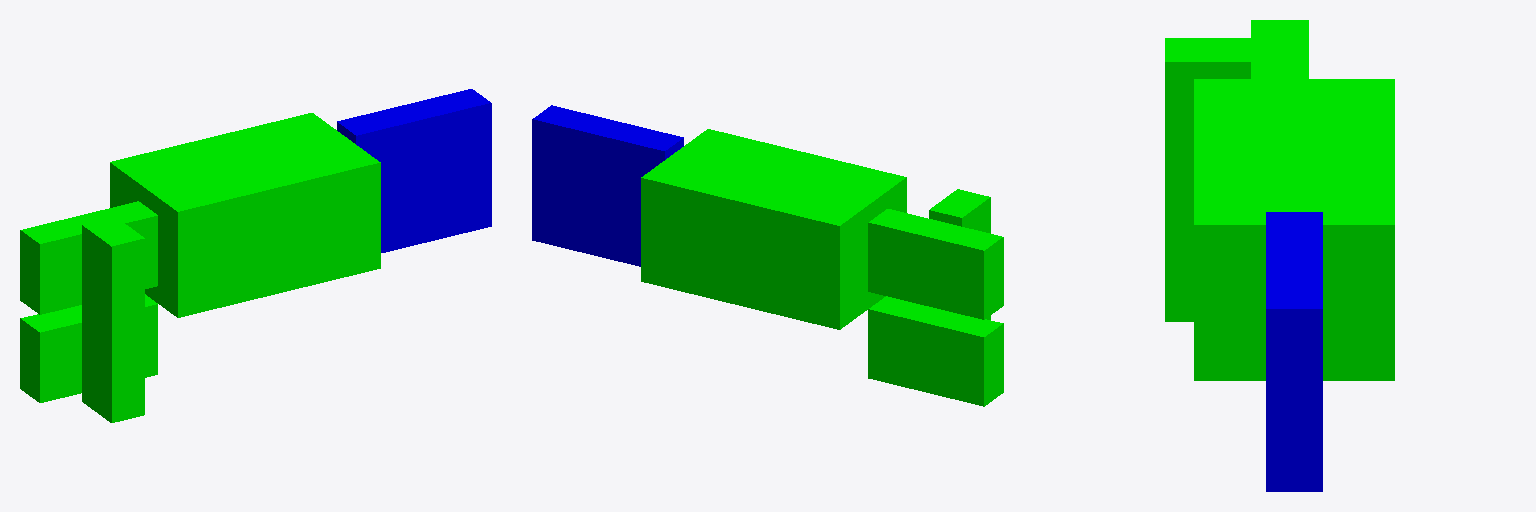
robot.urdf — robot:
<robot name = "robot">
    <link name="root">
        <inertial>
            <origin xyz="0.0 0.0 1.5" rpy="0 0 0"/>
            <mass value="1" />
            <inertia ixx="100" ixy="0" ixz="0" iyy="100" iyz="0" izz="100" />
        </inertial>
        <visual>
            <origin xyz="0.0 0.0 1.5" rpy="0 0 0"/>
            <geometry>
                <box size="0 0 0.0001" />
            </geometry>
            <material name="Green">
                <color rgba="0 1.0 0.0 1.0"/>
            </material>
        </visual>
        <collision>
            <origin xyz="0.0 0.0 1.5" rpy="0 0 0"/>
            <geometry>
                <box size="0 0 0.0001" />
            </geometry>
        </collision>
    </link>
    <joint name="root_000" type="revolute">
       <parent link="root"/>
       <child  link="000"/>
       <origin rpy="0 0 0" xyz="0.0 0.0 1.5" />
     <axis xyz="1 0 0"/>
       <limit effort="0.0" lower="-3.14159" upper="3.14159" velocity="0.0"/>
    </joint>
    <link name="000">
        <inertial>
            <origin xyz="0.0 0.0 -0.25" rpy="0 0 0"/>
            <mass value="1" />
            <inertia ixx="100" ixy="0" ixz="0" iyy="100" iyz="0" izz="100" />
        </inertial>
        <visual>
            <origin xyz="0.0 0.0 -0.25" rpy="0 0 0"/>
            <geometry>
                <box size="0.2 0.3 0.5" />
            </geometry>
            <material name="Green">
                <color rgba="0 1.0 0.0 1.0"/>
            </material>
        </visual>
        <collision>
            <origin xyz="0.0 0.0 -0.25" rpy="0 0 0"/>
            <geometry>
                <box size="0.2 0.3 0.5" />
            </geometry>
        </collision>
    </link>
    <joint name="000_010" type="revolute">
       <parent link="000"/>
       <child  link="010"/>
       <origin rpy="0 0 0" xyz="0.0 0.0 -0.5" />
     <axis xyz="0 0 1"/>
       <limit effort="0.0" lower="-3.14159" upper="3.14159" velocity="0.0"/>
    </joint>
    <link name="010">
        <inertial>
            <origin xyz="0.0 0.0 -0.25" rpy="0 0 0"/>
            <mass value="1" />
            <inertia ixx="100" ixy="0" ixz="0" iyy="100" iyz="0" izz="100" />
        </inertial>
        <visual>
            <origin xyz="0.0 0.0 -0.25" rpy="0 0 0"/>
            <geometry>
                <box size="0.2 0.3 0.5" />
            </geometry>
            <material name="Green">
                <color rgba="0 1.0 0.0 1.0"/>
            </material>
        </visual>
        <collision>
            <origin xyz="0.0 0.0 -0.25" rpy="0 0 0"/>
            <geometry>
                <box size="0.2 0.3 0.5" />
            </geometry>
        </collision>
    </link>
    <joint name="010_010-100" type="revolute">
       <parent link="010"/>
       <child  link="010-100"/>
       <origin rpy="0 0 0" xyz="0.0 0.15 -0.25" />
     <axis xyz="0 1 0"/>
       <limit effort="0.0" lower="-3.14159" upper="3.14159" velocity="0.0"/>
    </joint>
    <link name="010-100">
        <inertial>
            <origin xyz="0.0 0.05 -0.0" rpy="0 0 0"/>
            <mass value="1" />
            <inertia ixx="100" ixy="0" ixz="0" iyy="100" iyz="0" izz="100" />
        </inertial>
        <visual>
            <origin xyz="0.0 0.05 -0.0" rpy="0 0 0"/>
            <geometry>
                <box size="0.7 0.1 0.4" />
            </geometry>
            <material name="Green">
                <color rgba="0 1.0 0.0 1.0"/>
            </material>
        </visual>
        <collision>
            <origin xyz="0.0 0.05 -0.0" rpy="0 0 0"/>
            <geometry>
                <box size="0.7 0.1 0.4" />
            </geometry>
        </collision>
    </link>
    <joint name="010-100_010-110" type="revolute">
       <parent link="010-100"/>
       <child  link="010-110"/>
       <origin rpy="0 0 0" xyz="0.0 0.1 -0.0" />
     <axis xyz="0 1 0"/>
       <limit effort="0.0" lower="-3.14159" upper="3.14159" velocity="0.0"/>
    </joint>
    <link name="010-110">
        <inertial>
            <origin xyz="0.0 0.05 -0.0" rpy="0 0 0"/>
            <mass value="1" />
            <inertia ixx="100" ixy="0" ixz="0" iyy="100" iyz="0" izz="100" />
        </inertial>
        <visual>
            <origin xyz="0.0 0.05 -0.0" rpy="0 0 0"/>
            <geometry>
                <box size="0.7 0.1 0.4" />
            </geometry>
            <material name="Green">
                <color rgba="0 1.0 0.0 1.0"/>
            </material>
        </visual>
        <collision>
            <origin xyz="0.0 0.05 -0.0" rpy="0 0 0"/>
            <geometry>
                <box size="0.7 0.1 0.4" />
            </geometry>
        </collision>
    </link>
    <joint name="000_000-100" type="revolute">
       <parent link="000"/>
       <child  link="000-100"/>
       <origin rpy="0 0 0" xyz="0.0 0.15 -0.25" />
     <axis xyz="0 1 0"/>
       <limit effort="0.0" lower="-3.14159" upper="3.14159" velocity="0.0"/>
    </joint>
    <link name="000-100">
        <inertial>
            <origin xyz="0.0 0.05 -0.0" rpy="0 0 0"/>
            <mass value="1" />
            <inertia ixx="100" ixy="0" ixz="0" iyy="100" iyz="0" izz="100" />
        </inertial>
        <visual>
            <origin xyz="0.0 0.05 -0.0" rpy="0 0 0"/>
            <geometry>
                <box size="0.7 0.1 0.4" />
            </geometry>
            <material name="Green">
                <color rgba="0 1.0 0.0 1.0"/>
            </material>
        </visual>
        <collision>
            <origin xyz="0.0 0.05 -0.0" rpy="0 0 0"/>
            <geometry>
                <box size="0.7 0.1 0.4" />
            </geometry>
        </collision>
    </link>
    <joint name="000-100_000-110" type="revolute">
       <parent link="000-100"/>
       <child  link="000-110"/>
       <origin rpy="0 0 0" xyz="0.0 0.1 -0.0" />
     <axis xyz="0 1 0"/>
       <limit effort="0.0" lower="-3.14159" upper="3.14159" velocity="0.0"/>
    </joint>
    <link name="000-110">
        <inertial>
            <origin xyz="0.0 0.05 -0.0" rpy="0 0 0"/>
            <mass value="1" />
            <inertia ixx="100" ixy="0" ixz="0" iyy="100" iyz="0" izz="100" />
        </inertial>
        <visual>
            <origin xyz="0.0 0.05 -0.0" rpy="0 0 0"/>
            <geometry>
                <box size="0.7 0.1 0.4" />
            </geometry>
            <material name="Green">
                <color rgba="0 1.0 0.0 1.0"/>
            </material>
        </visual>
        <collision>
            <origin xyz="0.0 0.05 -0.0" rpy="0 0 0"/>
            <geometry>
                <box size="0.7 0.1 0.4" />
            </geometry>
        </collision>
    </link>
    <joint name="000-110_000-110-200" type="revolute">
       <parent link="000-110"/>
       <child  link="000-110-200"/>
       <origin rpy="0 0 0" xyz="0.35 0.05 -0.0" />
     <axis xyz="1 0 0"/>
       <limit effort="0.0" lower="-3.14159" upper="3.14159" velocity="0.0"/>
    </joint>
    <link name="000-110-200">
        <inertial>
            <origin xyz="0.2 0.0 -0.0" rpy="0 0 0"/>
            <mass value="1" />
            <inertia ixx="100" ixy="0" ixz="0" iyy="100" iyz="0" izz="100" />
        </inertial>
        <visual>
            <origin xyz="0.2 0.0 -0.0" rpy="0 0 0"/>
            <geometry>
                <box size="0.4 0.7 0.6" />
            </geometry>
            <material name="Green">
                <color rgba="0 1.0 0.0 1.0"/>
            </material>
        </visual>
        <collision>
            <origin xyz="0.2 0.0 -0.0" rpy="0 0 0"/>
            <geometry>
                <box size="0.4 0.7 0.6" />
            </geometry>
        </collision>
    </link>
    <joint name="000-110-200_000-110-210" type="revolute">
       <parent link="000-110-200"/>
       <child  link="000-110-210"/>
       <origin rpy="0 0 0" xyz="0.4 0.0 -0.0" />
     <axis xyz="1 0 0"/>
       <limit effort="0.0" lower="-3.14159" upper="3.14159" velocity="0.0"/>
    </joint>
    <link name="000-110-210">
        <inertial>
            <origin xyz="0.2 0.0 -0.0" rpy="0 0 0"/>
            <mass value="1" />
            <inertia ixx="100" ixy="0" ixz="0" iyy="100" iyz="0" izz="100" />
        </inertial>
        <visual>
            <origin xyz="0.2 0.0 -0.0" rpy="0 0 0"/>
            <geometry>
                <box size="0.4 0.7 0.6" />
            </geometry>
            <material name="Green">
                <color rgba="0 1.0 0.0 1.0"/>
            </material>
        </visual>
        <collision>
            <origin xyz="0.2 0.0 -0.0" rpy="0 0 0"/>
            <geometry>
                <box size="0.4 0.7 0.6" />
            </geometry>
        </collision>
    </link>
    <joint name="000-110-210_000-110-220" type="revolute">
       <parent link="000-110-210"/>
       <child  link="000-110-220"/>
       <origin rpy="0 0 0" xyz="0.4 0.0 -0.0" />
     <axis xyz="1 0 0"/>
       <limit effort="0.0" lower="-3.14159" upper="3.14159" velocity="0.0"/>
    </joint>
    <link name="000-110-220">
        <inertial>
            <origin xyz="0.2 0.0 -0.0" rpy="0 0 0"/>
            <mass value="1" />
            <inertia ixx="100" ixy="0" ixz="0" iyy="100" iyz="0" izz="100" />
        </inertial>
        <visual>
            <origin xyz="0.2 0.0 -0.0" rpy="0 0 0"/>
            <geometry>
                <box size="0.4 0.7 0.6" />
            </geometry>
            <material name="Green">
                <color rgba="0 1.0 0.0 1.0"/>
            </material>
        </visual>
        <collision>
            <origin xyz="0.2 0.0 -0.0" rpy="0 0 0"/>
            <geometry>
                <box size="0.4 0.7 0.6" />
            </geometry>
        </collision>
    </link>
    <joint name="000-110-220_000-110-220-300" type="revolute">
       <parent link="000-110-220"/>
       <child  link="000-110-220-300"/>
       <origin rpy="0 0 0" xyz="0.4 0.0 -0.0" />
     <axis xyz="1 0 0"/>
       <limit effort="0.0" lower="-3.14159" upper="3.14159" velocity="0.0"/>
    </joint>
    <link name="000-110-220-300">
        <inertial>
            <origin xyz="0.2 0.0 -0.0" rpy="0 0 0"/>
            <mass value="1" />
            <inertia ixx="100" ixy="0" ixz="0" iyy="100" iyz="0" izz="100" />
        </inertial>
        <visual>
            <origin xyz="0.2 0.0 -0.0" rpy="0 0 0"/>
            <geometry>
                <box size="0.4 0.2 0.7" />
            </geometry>
            <material name="Blue">
                <color rgba="0 0.0 1.0 1.0"/>
            </material>
        </visual>
        <collision>
            <origin xyz="0.2 0.0 -0.0" rpy="0 0 0"/>
            <geometry>
                <box size="0.4 0.2 0.7" />
            </geometry>
        </collision>
    </link>
    <joint name="000-110-220-300_000-110-220-310" type="revolute">
       <parent link="000-110-220-300"/>
       <child  link="000-110-220-310"/>
       <origin rpy="0 0 0" xyz="0.4 0.0 -0.0" />
     <axis xyz="1 0 0"/>
       <limit effort="0.0" lower="-3.14159" upper="3.14159" velocity="0.0"/>
    </joint>
    <link name="000-110-220-310">
        <inertial>
            <origin xyz="0.2 0.0 -0.0" rpy="0 0 0"/>
            <mass value="1" />
            <inertia ixx="100" ixy="0" ixz="0" iyy="100" iyz="0" izz="100" />
        </inertial>
        <visual>
            <origin xyz="0.2 0.0 -0.0" rpy="0 0 0"/>
            <geometry>
                <box size="0.4 0.2 0.7" />
            </geometry>
            <material name="Blue">
                <color rgba="0 0.0 1.0 1.0"/>
            </material>
        </visual>
        <collision>
            <origin xyz="0.2 0.0 -0.0" rpy="0 0 0"/>
            <geometry>
                <box size="0.4 0.2 0.7" />
            </geometry>
        </collision>
    </link>
</robot>

--- Render facts (derived) ---
Views: 3 orthographic renders of the robot side by side, from view 1: azimuth 30°, elevation 25°; view 2: azimuth 150°, elevation 25°; view 3: azimuth 270°, elevation 25°.
Robot: robot — 12 links, 11 joints (11 revolute); root link root; default pose: every joint at zero.
Visible links, largest first — view 1: [phone redacted] (×5), 000, 000-100, 010, 010-100, 000-110, 010-110; view 2: [phone redacted] (×5), 010-110, 000-110, 000, 000-100, 010-100; view 3: [phone redacted] (×5), 000, 010, 000-100, 000-110.
Link boxes in pixels (x1,y1,x2,y2): [phone redacted] (×5): [110, 89, 491, 317]; 000: [82, 217, 144, 334]; 000-100: [30, 208, 157, 314]; 010: [82, 314, 144, 422]; 010-100: [30, 297, 157, 402]; 000-110: [20, 201, 147, 306]; 010-110: [20, 294, 147, 395]; [phone redacted] (×5): [532, 105, 906, 329]; 010-110: [868, 302, 993, 406]; 000-110: [868, 216, 993, 319]; 000: [929, 189, 990, 233]; 000-100: [878, 209, 1003, 312]; 010-100: [879, 296, 1003, 398]; [phone redacted] (×5): [1194, 79, 1394, 491]; 000: [1165, 38, 1250, 191]; 010: [1165, 192, 1193, 321]; 000-100: [1251, 20, 1279, 78]; 000-110: [1280, 20, 1308, 78].
Bounding box of the posed robot: 2.7 × 0.8 × 1.1 m (x, y, z).
Geometry: primitives only (box / cylinder / sphere), no mesh files.
